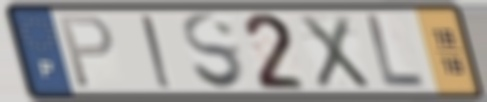2: (241, 11, 309, 93)
I: (136, 13, 177, 91)
L: (363, 11, 428, 91)
P: (57, 13, 117, 91)
S: (179, 10, 249, 93)
X: (295, 12, 374, 91)
